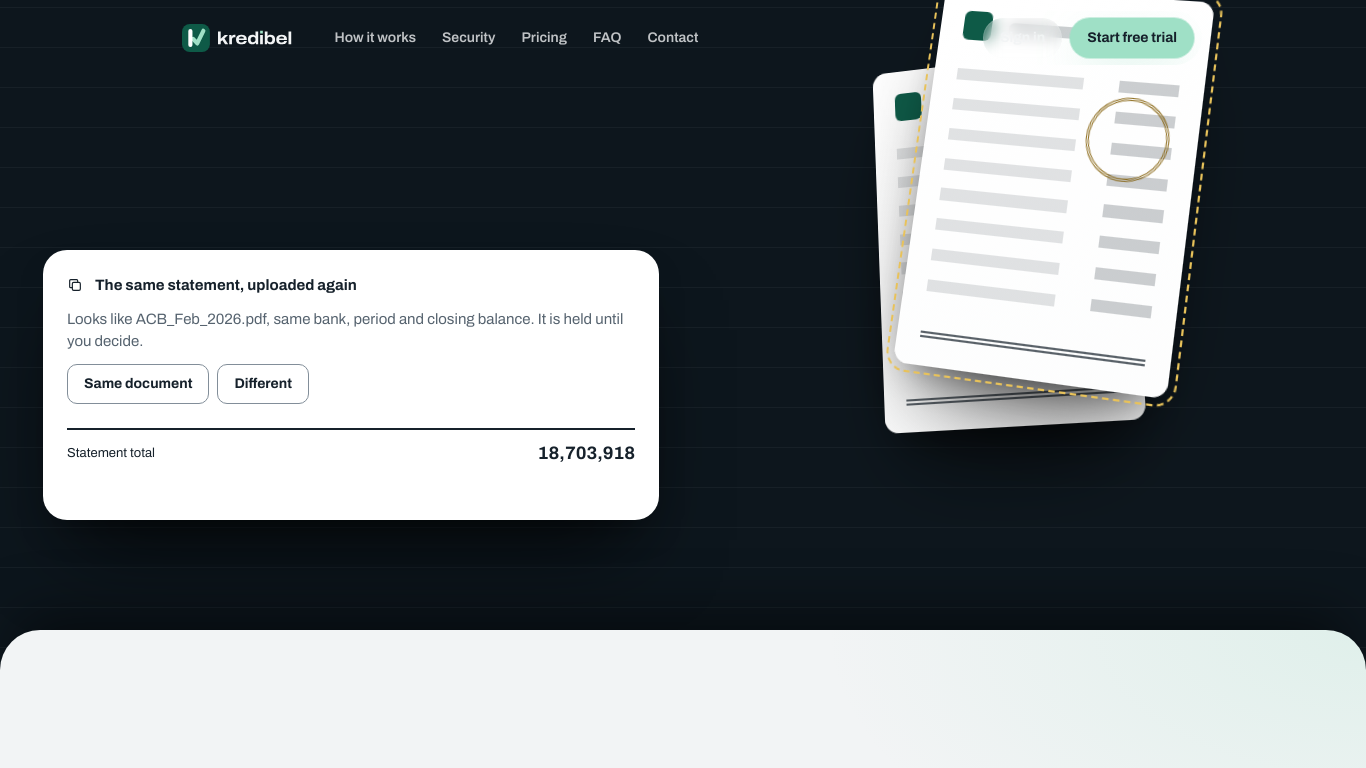
Test case: Public pages (spec 020) › landing: tagline, hero CTA targets, the signature move and the live duplicate decision
(page scrolled)
Click the button "Different".
click(263, 384)  # box [217, 364, 309, 404]
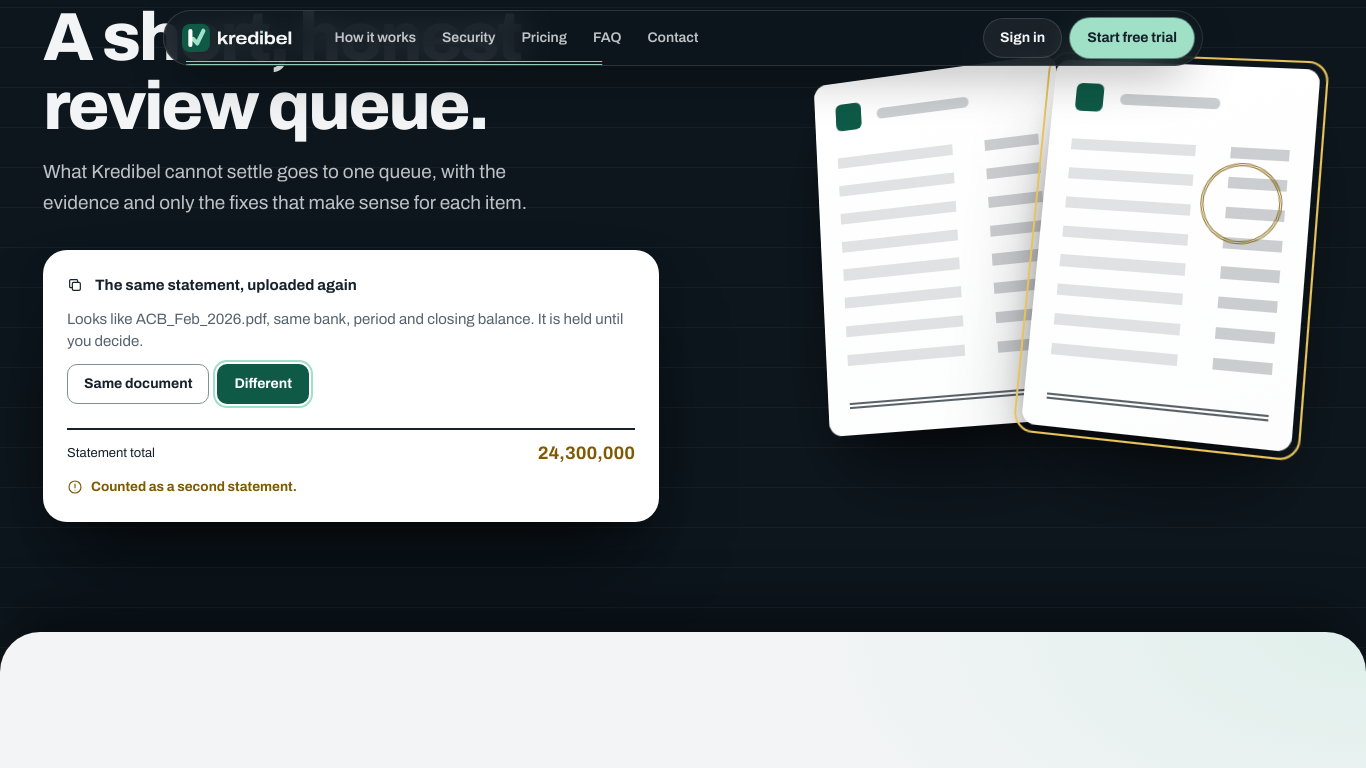
Expected: the text "24,300,000" is shown, [538, 442, 635, 464]
